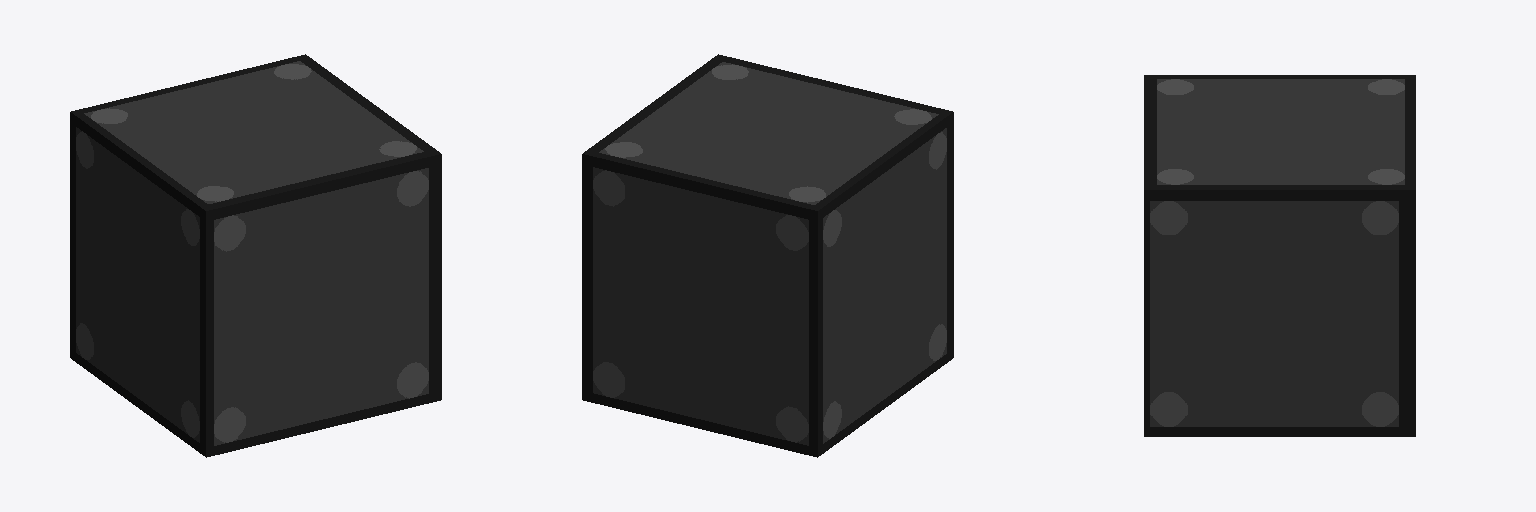
The picture shows the model from 3 angles: view 1: azimuth 30°, elevation 25°; view 2: azimuth 150°, elevation 25°; view 3: azimuth 270°, elevation 25°; orthographic projection.
Visible parts, largest first — view 1: Cube; view 2: Cube; view 3: Cube.
Boxes of the visible parts, <box> form: Cube: <box>70,54,441,457</box>; Cube: <box>582,54,953,457</box>; Cube: <box>1144,75,1415,436</box>.
Bounding box in the file's own units: 2 × 2 × 2.
1 materials, 1 textured.